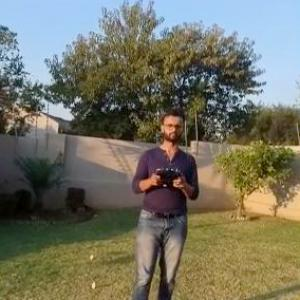follow: (120, 103, 202, 299)
